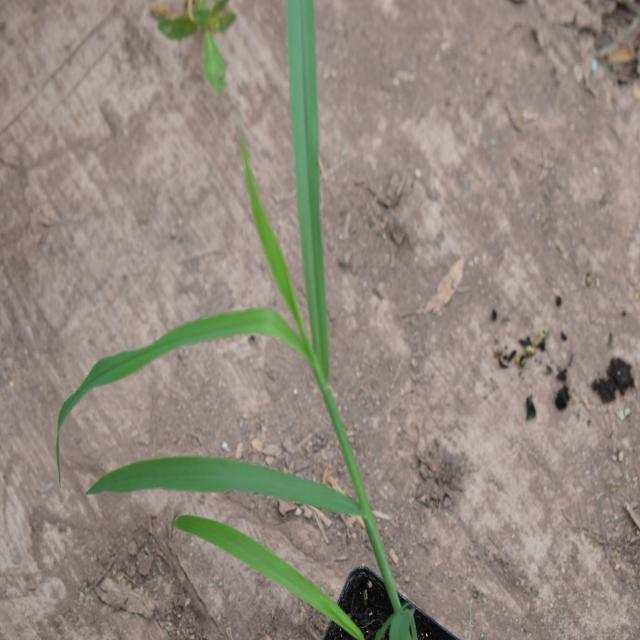crabgrass: (88, 59, 406, 614)
